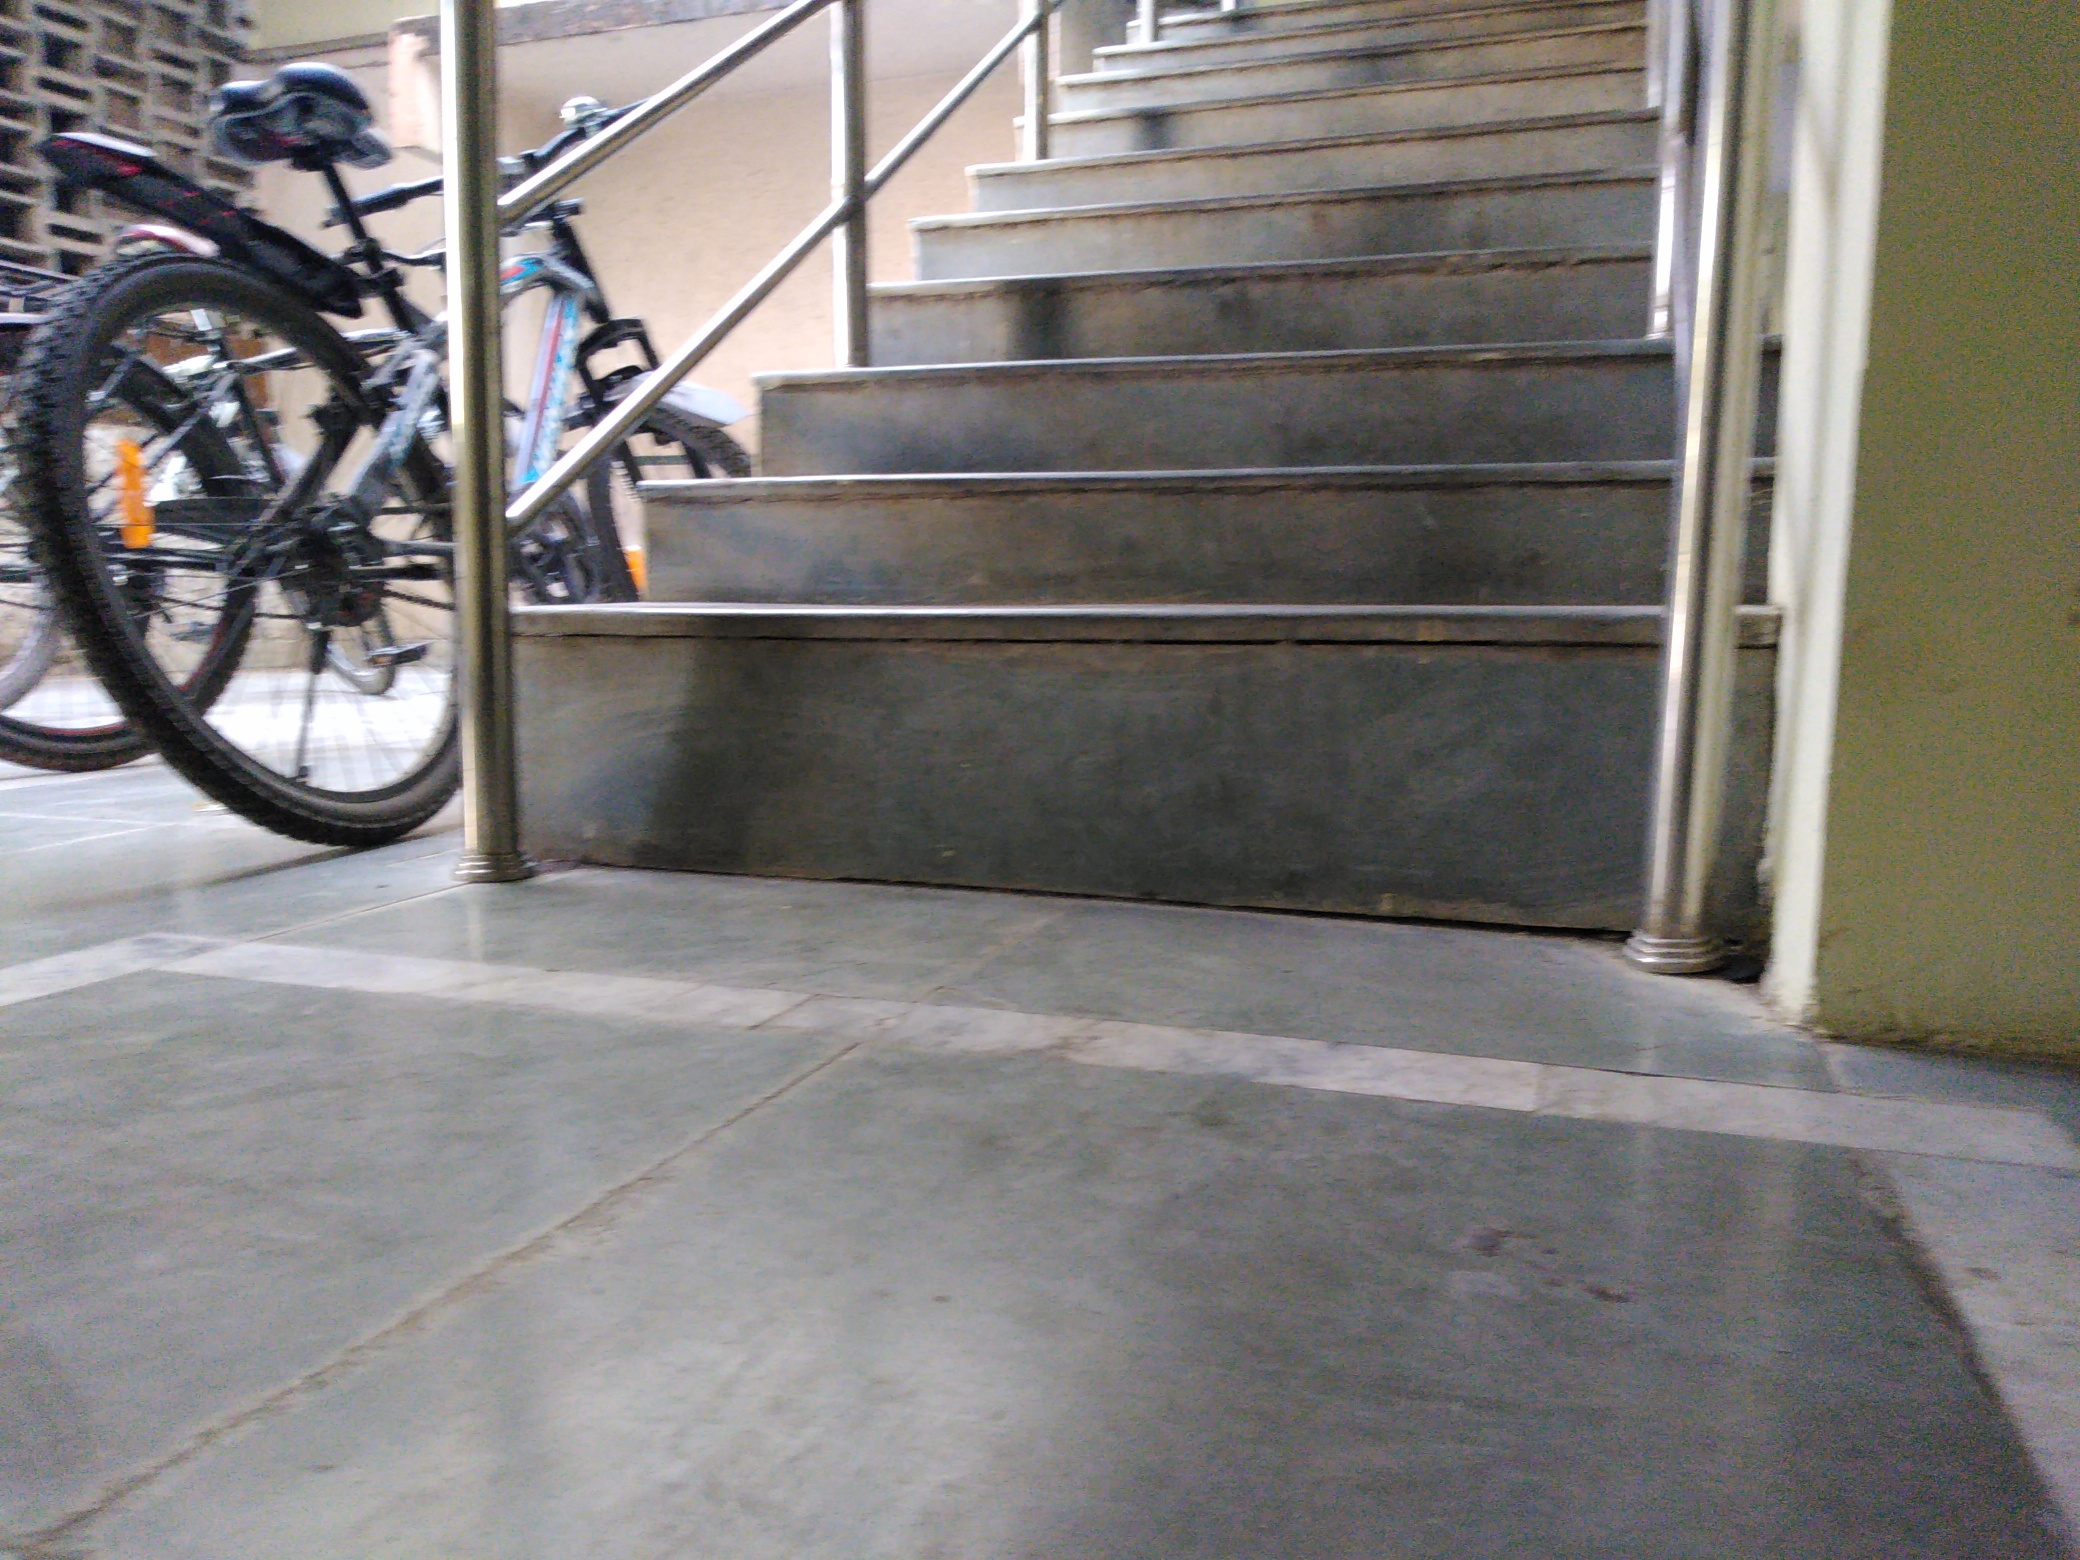stairs_up: (608, 28, 1743, 950)
